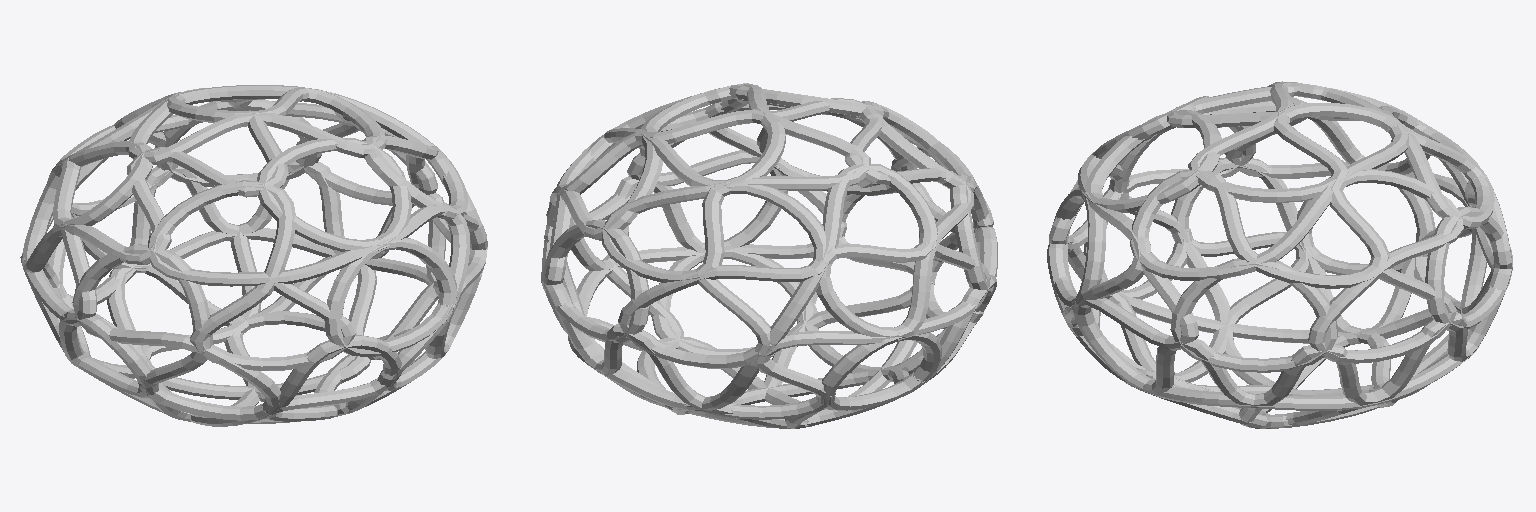
The model's file is ball.obj.
3 renders of one model, left to right at view 1: azimuth 30°, elevation 25°; view 2: azimuth 150°, elevation 25°; view 3: azimuth 270°, elevation 25°, orthographic.
Parts seen in each view (by area): view 1: ball_3d; view 2: ball_3d; view 3: ball_3d.
Boxes of the visible parts, box(x1,y1,x2,y2) form: ball_3d: box(20, 85, 487, 426); ball_3d: box(541, 83, 997, 428); ball_3d: box(1047, 81, 1512, 428).
Size of the model in its own units: 1.17 by 0.795 by 1.17.